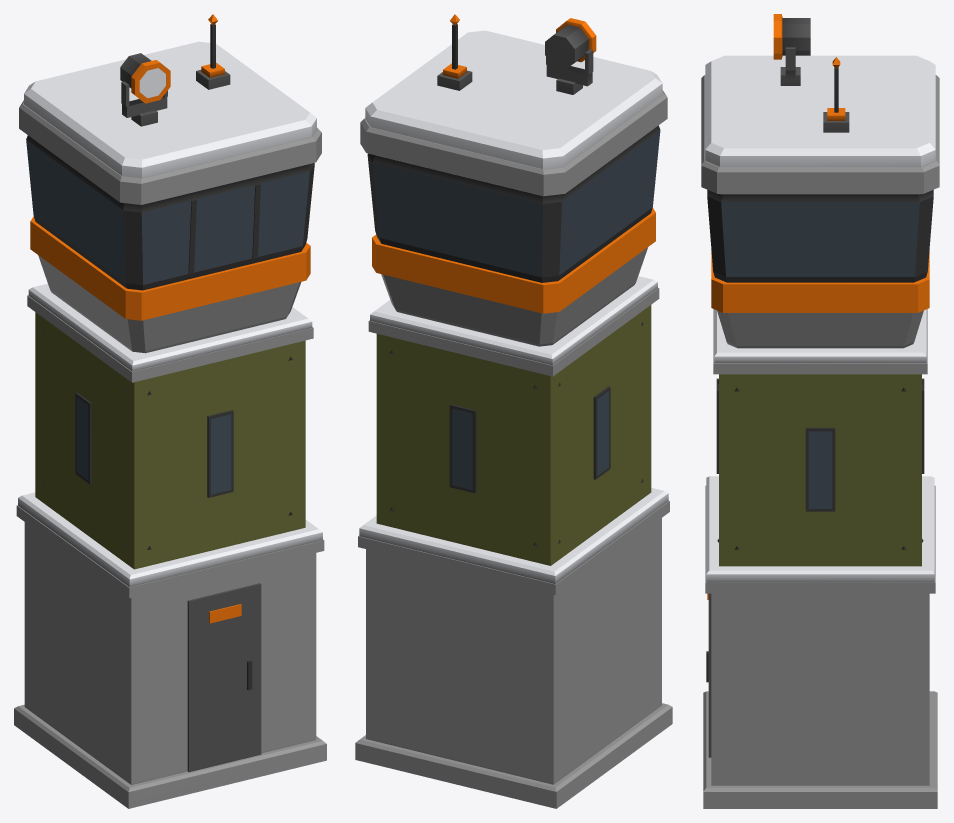
Rendered from watchtower.glb.
3 renders of one model, left to right at view 1: azimuth 30°, elevation 25°; view 2: azimuth 150°, elevation 25°; view 3: azimuth 270°, elevation 25°, orthographic. The views are drawn at different scales.
Parts seen in each view (by area): view 1: watchtower; view 2: watchtower; view 3: watchtower.
Part boxes in pixels (left/top/right/bottom): watchtower: left=14, top=14, right=326, bottom=808; watchtower: left=355, top=14, right=672, bottom=808; watchtower: left=701, top=14, right=939, bottom=808.
Bounding box in the file's own units: 2.4 × 8.08 × 2.4.
1 material, 1 textured.
